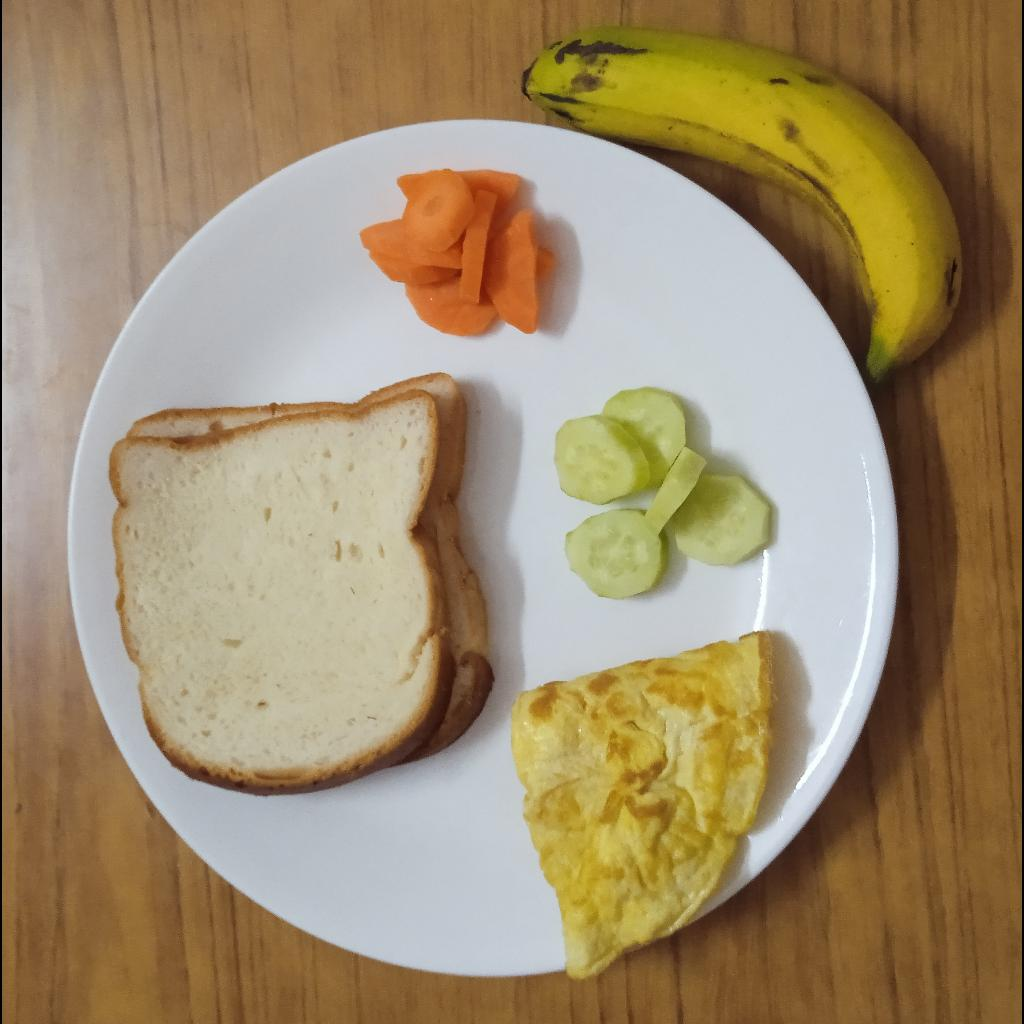banana: (518, 27, 963, 386)
bread: (107, 371, 493, 800)
carrot: (361, 169, 561, 338)
cucumber: (554, 381, 776, 598)
egg-poached: (511, 630, 781, 987)
